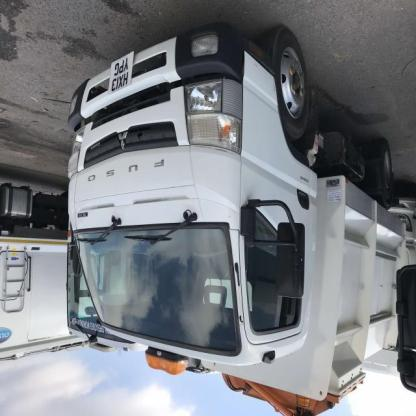truck: (68, 27, 416, 416)
